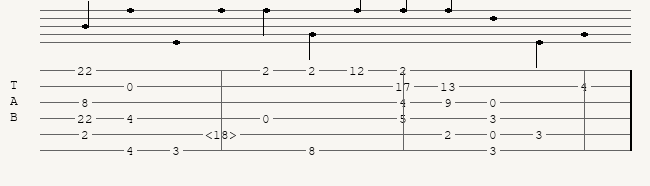0: (126, 80, 138, 92), (262, 112, 274, 124), (489, 128, 501, 140), (489, 96, 501, 108)
12: (349, 64, 369, 76)
13: (440, 80, 460, 92)
17: (395, 80, 415, 92)
2: (81, 128, 93, 140), (262, 64, 274, 76), (308, 64, 320, 76), (399, 64, 411, 76), (444, 128, 456, 140)
22: (77, 112, 97, 124), (77, 64, 97, 76)
3: (172, 144, 184, 156), (489, 144, 501, 156), (489, 112, 501, 124), (535, 128, 547, 140)
4: (126, 112, 138, 124), (126, 144, 138, 156), (399, 96, 411, 108), (580, 80, 592, 92)
5: (399, 112, 411, 124)
8: (81, 96, 93, 108), (308, 144, 320, 156)
9: (444, 96, 456, 108)
harmonic: (205, 128, 241, 141)
